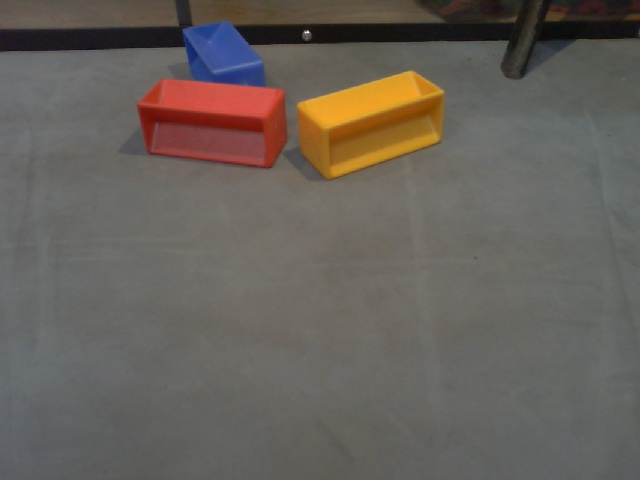BlueSample: (180, 19, 267, 93)
RedSample: (134, 73, 292, 176)
YellowSample: (294, 68, 449, 182)
